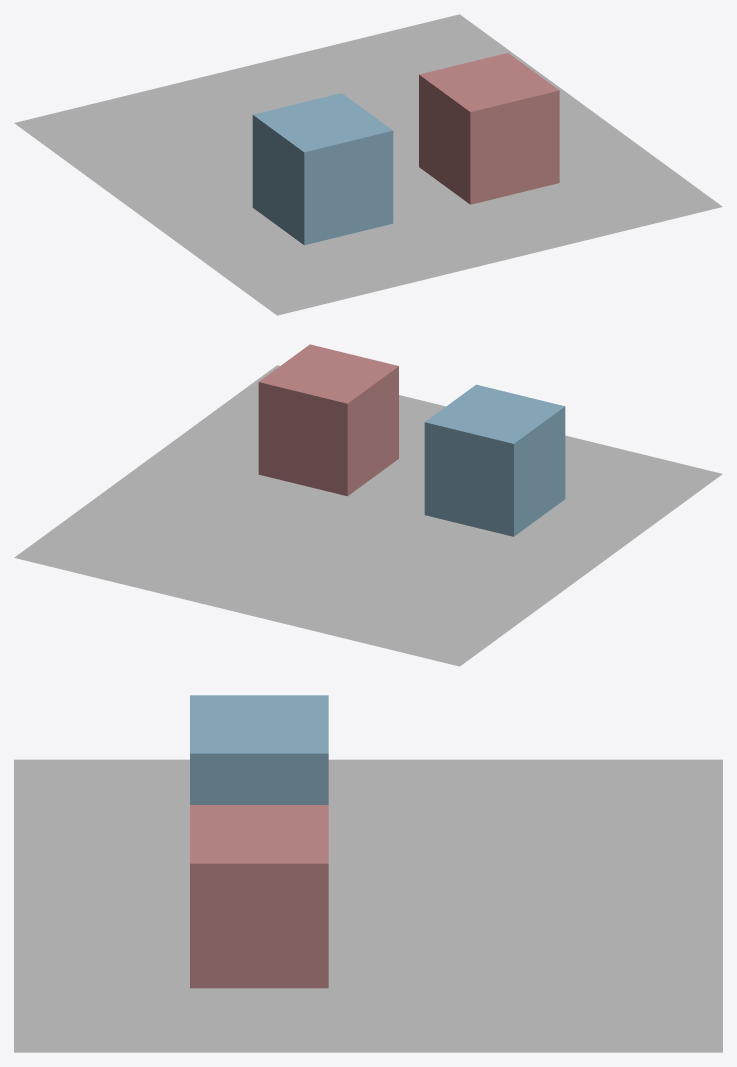
File: GITest0.fbx
The picture shows the model from 3 angles, top to bottom: view 1: azimuth 30°, elevation 25°; view 2: azimuth 150°, elevation 25°; view 3: azimuth 270°, elevation 25°; orthographic projection. The views are drawn at different scales.
Parts seen in each view (by area): view 1: nurbsPlane1, pCube2, pCube1; view 2: nurbsPlane1, pCube2, pCube1; view 3: nurbsPlane1, pCube1, pCube2.
Part boxes in pixels (x1=…): nurbsPlane1: x1=14, y1=14, x2=722, y2=315; pCube2: x1=252, y1=93, x2=393, y2=245; pCube1: x1=419, y1=53, x2=559, y2=204; nurbsPlane1: x1=14, y1=365, x2=722, y2=666; pCube2: x1=424, y1=384, x2=565, y2=536; pCube1: x1=258, y1=344, x2=398, y2=496; nurbsPlane1: x1=14, y1=759, x2=722, y2=1052; pCube1: x1=190, y1=805, x2=328, y2=988; pCube2: x1=190, y1=695, x2=328, y2=804.
Size of the model in its own units: 20.02 by 4.01 by 20.47.
